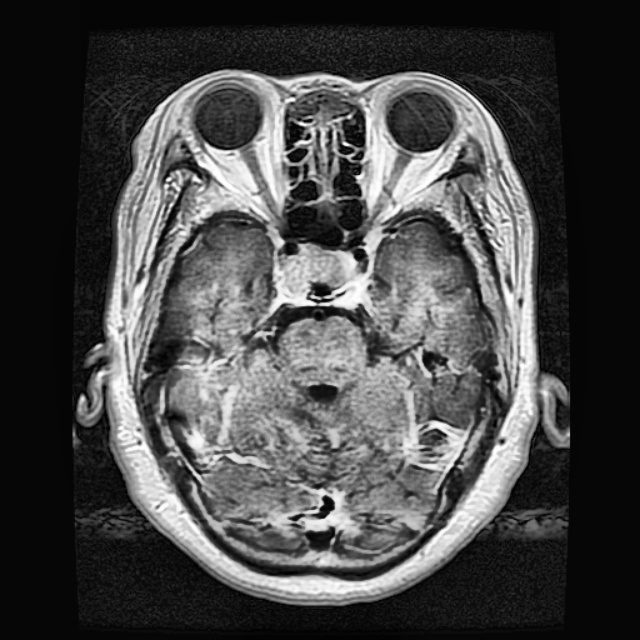Pituitary: (278, 248, 355, 293)
